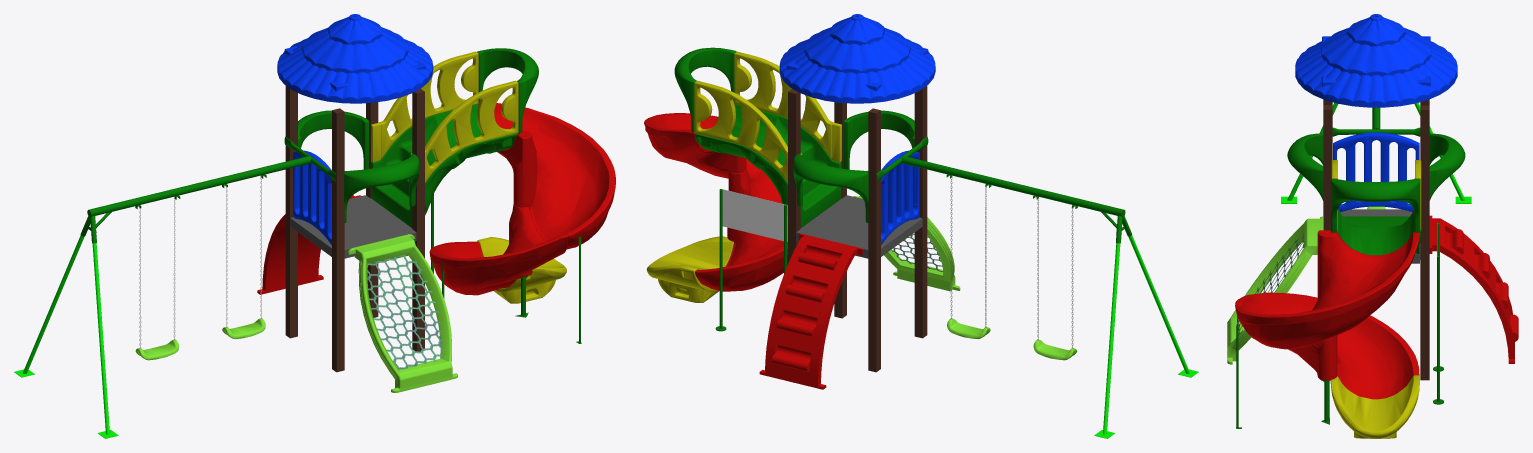
3 renders of one model, left to right at view 1: azimuth 30°, elevation 25°; view 2: azimuth 150°, elevation 25°; view 3: azimuth 270°, elevation 25°, orthographic. The views are drawn at different scales.
Visible parts, largest first — view 1: CARACOL M1, TOLDO M2, TEIA DE ARANHA M1, ACESSO M1, LATERAL M1.001, LATERAL M1, COLUNA MAD PLAST 9 X 9CM, PLATAFORMA M1, TRAV BALANCO ACOP M4 PINT, COLUNA MAD PLAST 9 X 9CM.003, COLUNA MAD PLAST 9 X 9CM.004, FECHAMENTO M1 (+10 smaller); view 2: TOLDO M2, ESCALADA M2, CARACOL M1, ACESSO M1, LATERAL M1, LATERAL M1.001, COLUNA MAD PLAST 9 X 9CM.003, PONTEIRA M2, PLATAFORMA M1, COLUNA MAD PLAST 9 X 9CM, TRAV BALANCO ACOP M4 PINT, FECHAMENTO M1 (+12 smaller); view 3: CARACOL M1, TOLDO M2, ESCALADA M2, PONTEIRA M2, TEIA DE ARANHA M1, ACESSO M1, FECHAMENTO M1, COLUNA MAD PLAST 9 X 9CM.001, PORTAL M3.003, PORTAL M3.002, PORTAL M3.001, COLUNA MAD PLAST 9 X 9CM.004 (+6 smaller).
Boxes of the visible parts, <box> form: CARACOL M1: <box>429,103,615,295</box>; TOLDO M2: <box>277,14,433,103</box>; TEIA DE ARANHA M1: <box>347,234,457,392</box>; ACESSO M1: <box>371,104,529,317</box>; LATERAL M1.001: <box>410,80,518,182</box>; LATERAL M1: <box>371,51,478,162</box>; COLUNA MAD PLAST 9 X 9CM: <box>332,108,344,372</box>; PLATAFORMA M1: <box>290,195,416,258</box>; TRAV BALANCO ACOP M4 PINT: <box>80,136,336,243</box>; COLUNA MAD PLAST 9 X 9CM.003: <box>285,86,297,338</box>; COLUNA MAD PLAST 9 X 9CM.004: <box>412,88,424,351</box>; FECHAMENTO M1: <box>293,150,331,244</box>; TOLDO M2: <box>779,14,935,103</box>; ESCALADA M2: <box>759,233,863,389</box>; CARACOL M1: <box>644,113,787,291</box>; ACESSO M1: <box>694,104,841,227</box>; LATERAL M1: <box>694,80,802,182</box>; LATERAL M1.001: <box>734,51,841,162</box>; COLUNA MAD PLAST 9 X 9CM.003: <box>868,108,880,372</box>; PONTEIRA M2: <box>646,236,733,302</box>; PLATAFORMA M1: <box>796,195,922,258</box>; COLUNA MAD PLAST 9 X 9CM: <box>914,86,927,338</box>; TRAV BALANCO ACOP M4 PINT: <box>876,136,1132,243</box>; FECHAMENTO M1: <box>881,150,919,244</box>; CARACOL M1: <box>1235,230,1419,399</box>; TOLDO M2: <box>1295,14,1457,107</box>; ESCALADA M2: <box>1429,215,1518,363</box>; PONTEIRA M2: <box>1330,375,1419,438</box>; TEIA DE ARANHA M1: <box>1227,216,1322,364</box>; ACESSO M1: <box>1320,208,1421,424</box>; FECHAMENTO M1: <box>1333,132,1419,212</box>; COLUNA MAD PLAST 9 X 9CM.001: <box>1420,105,1429,380</box>; PORTAL M3.003: <box>1331,178,1420,232</box>; PORTAL M3.002: <box>1287,133,1323,200</box>; PORTAL M3.001: <box>1429,133,1465,200</box>; COLUNA MAD PLAST 9 X 9CM.004: <box>1323,105,1332,230</box>.
Size of the model in its own units: 5.9 by 3.53 by 2.74.
Materials: 18 (4 with a texture image).
